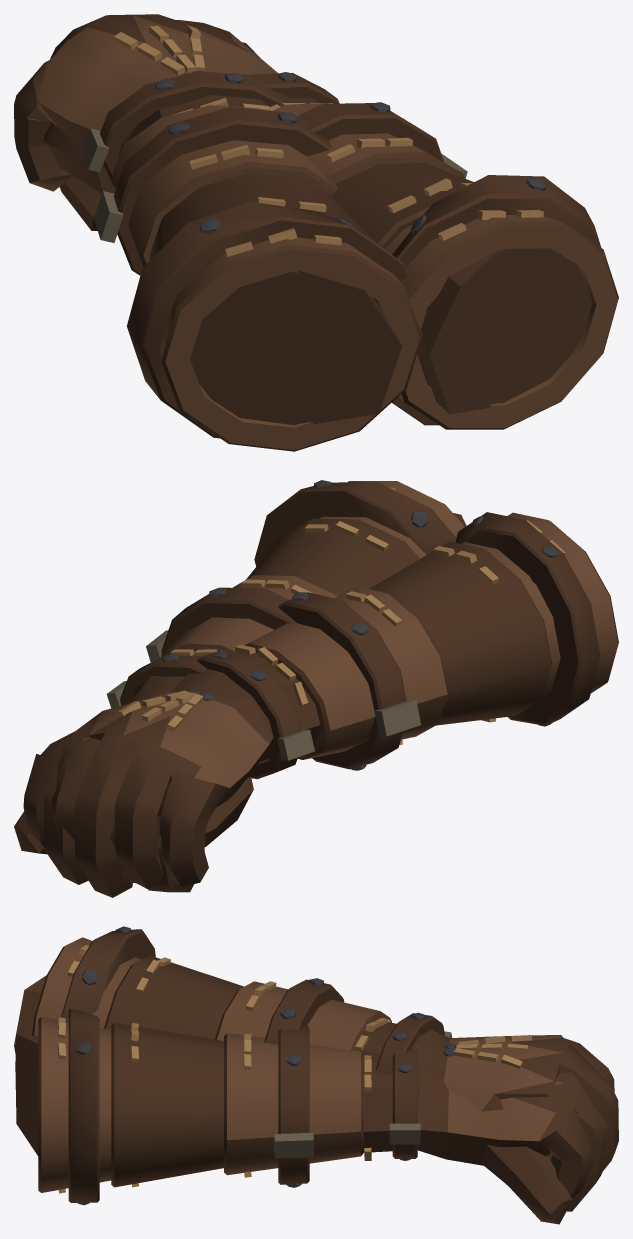
Rendered from gloves.glb.
The picture shows the model from 3 angles, top to bottom: view 1: azimuth 30°, elevation 25°; view 2: azimuth 150°, elevation 25°; view 3: azimuth 270°, elevation 25°; orthographic projection. The views are drawn at different scales.
Visible parts, largest first — view 1: Left_Forearm, Right_Forearm, Left_Glove, Right_Glove; view 2: Left_Forearm, Left_Glove, Right_Forearm, Right_Glove; view 3: Right_Forearm, Left_Forearm, Left_Glove, Right_Glove.
Boxes of the visible parts, x1,y1,x2,y2 form: Left_Forearm: [94, 95, 422, 451]; Right_Forearm: [269, 98, 618, 429]; Left_Glove: [14, 14, 290, 191]; Right_Glove: [43, 20, 339, 230]; Left_Forearm: [206, 512, 618, 770]; Left_Glove: [14, 650, 314, 897]; Right_Forearm: [146, 480, 466, 677]; Right_Glove: [23, 654, 253, 892]; Right_Forearm: [15, 1008, 419, 1205]; Left_Forearm: [14, 926, 431, 1061]; Left_Glove: [376, 1012, 618, 1224]; Right_Glove: [389, 1049, 608, 1197].
Size of the model in its own units: 0.2665 by 0.1524 by 0.4279.
